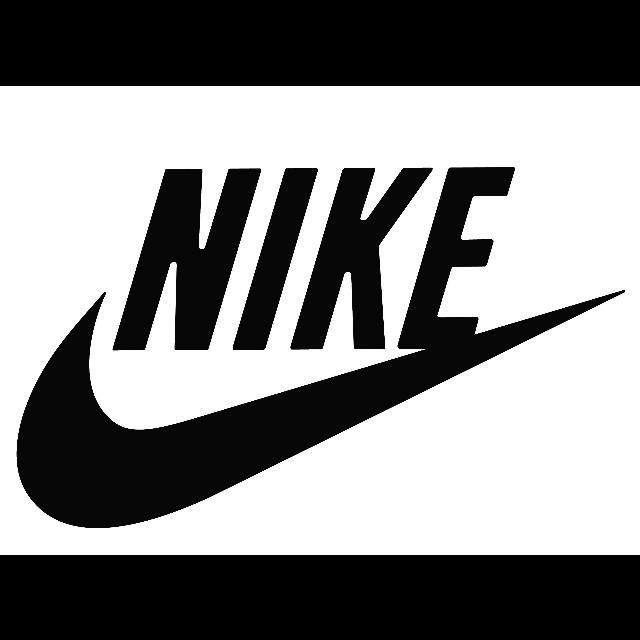NIKE_original: (6, 127, 634, 537)
